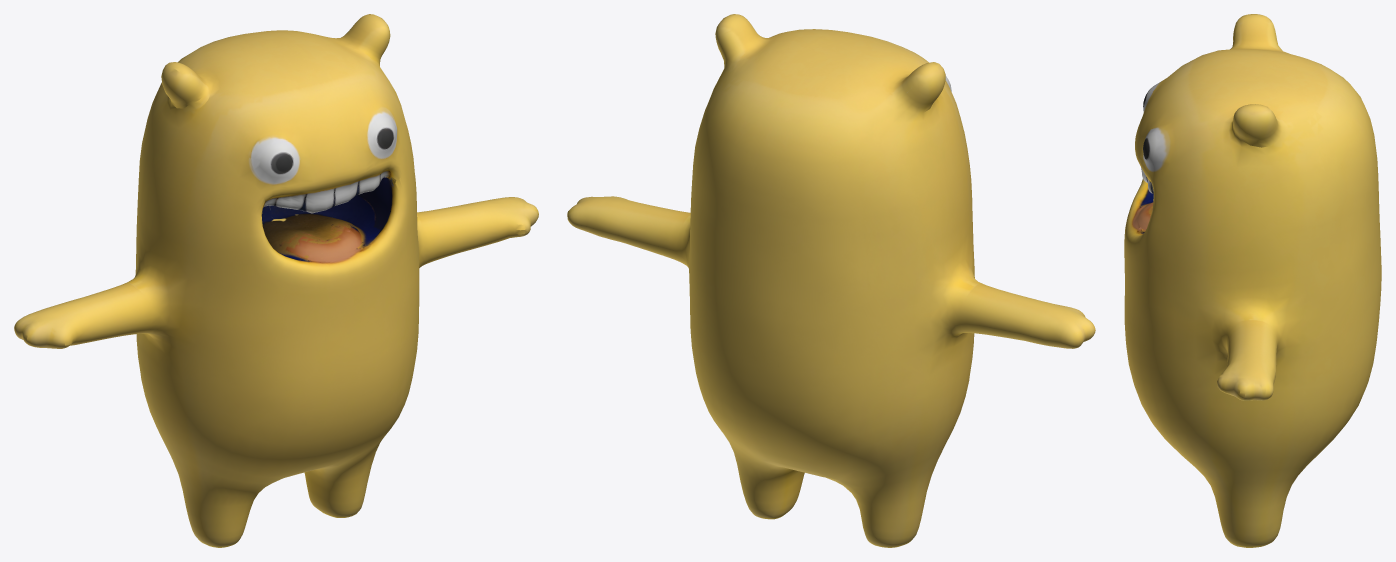
The model's file is Yellow_Monster.fbx.
3 views of the same model, side by side, from view 1: azimuth 30°, elevation 25°; view 2: azimuth 150°, elevation 25°; view 3: azimuth 270°, elevation 25° (orthographic). The views are drawn at different scales.
Visible parts, largest first — view 1: Mesh0; view 2: Mesh0; view 3: Mesh0.
Part boxes in pixels (bbox=[...]): Mesh0: bbox=[14, 14, 538, 547]; Mesh0: bbox=[567, 14, 1095, 547]; Mesh0: bbox=[1124, 14, 1381, 547].
Bounding box in the file's own units: 191 × 172 × 88.04.
1 material, 1 textured.
